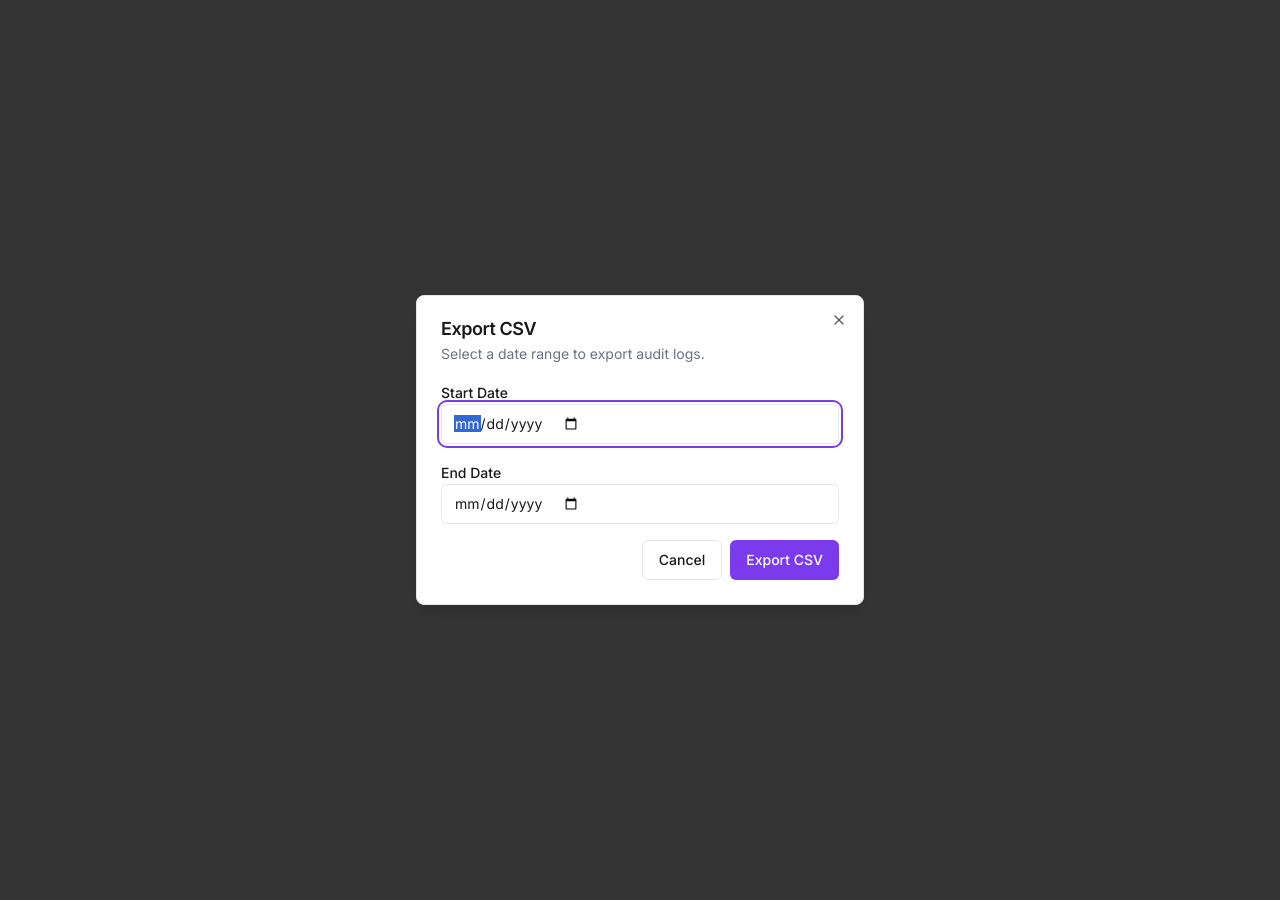
Scenario: AuditLogExportDialog › shows a required error when a date is missing
This screenshot has width=1280, height=900.
Click the button with test id "export-confirm" at (785, 560), box [730,540,839,580]
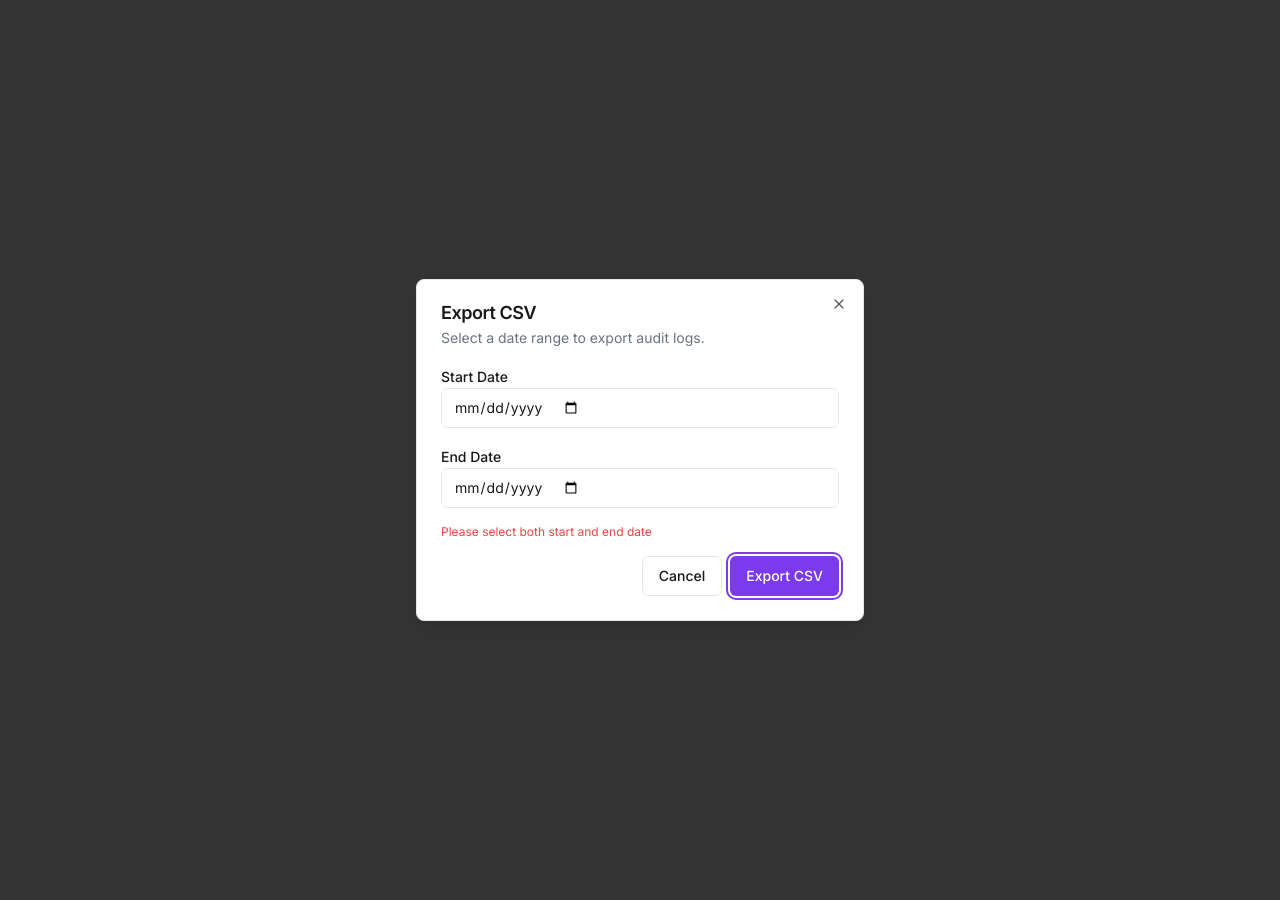
Result: the message with test id "export-range-error" shows "both start and end date" at [441,524,652,539]
